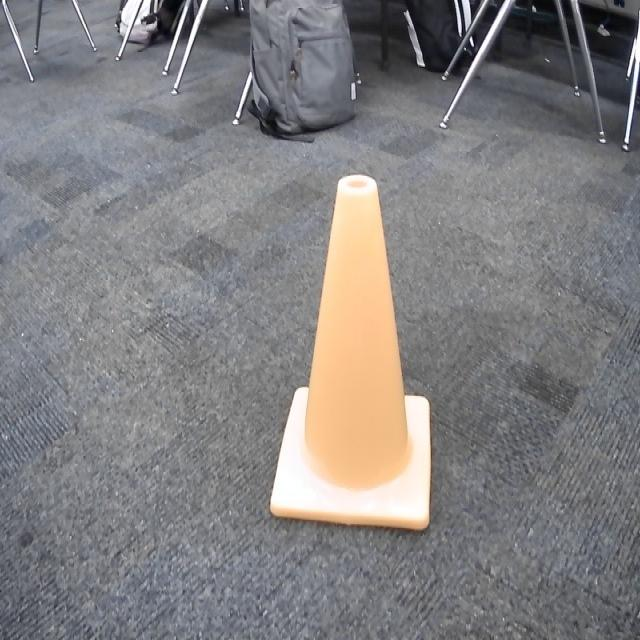cone: (267, 173, 432, 535)
